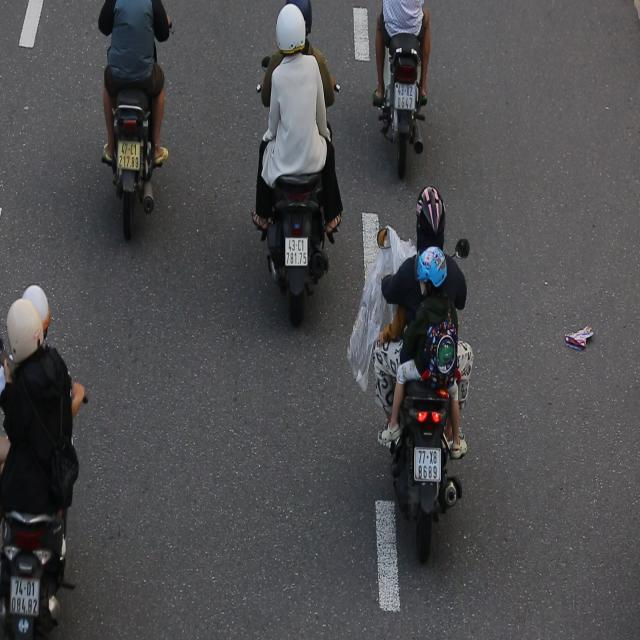motorbike: (364, 182, 472, 546), (249, 0, 357, 343), (0, 255, 78, 640)
